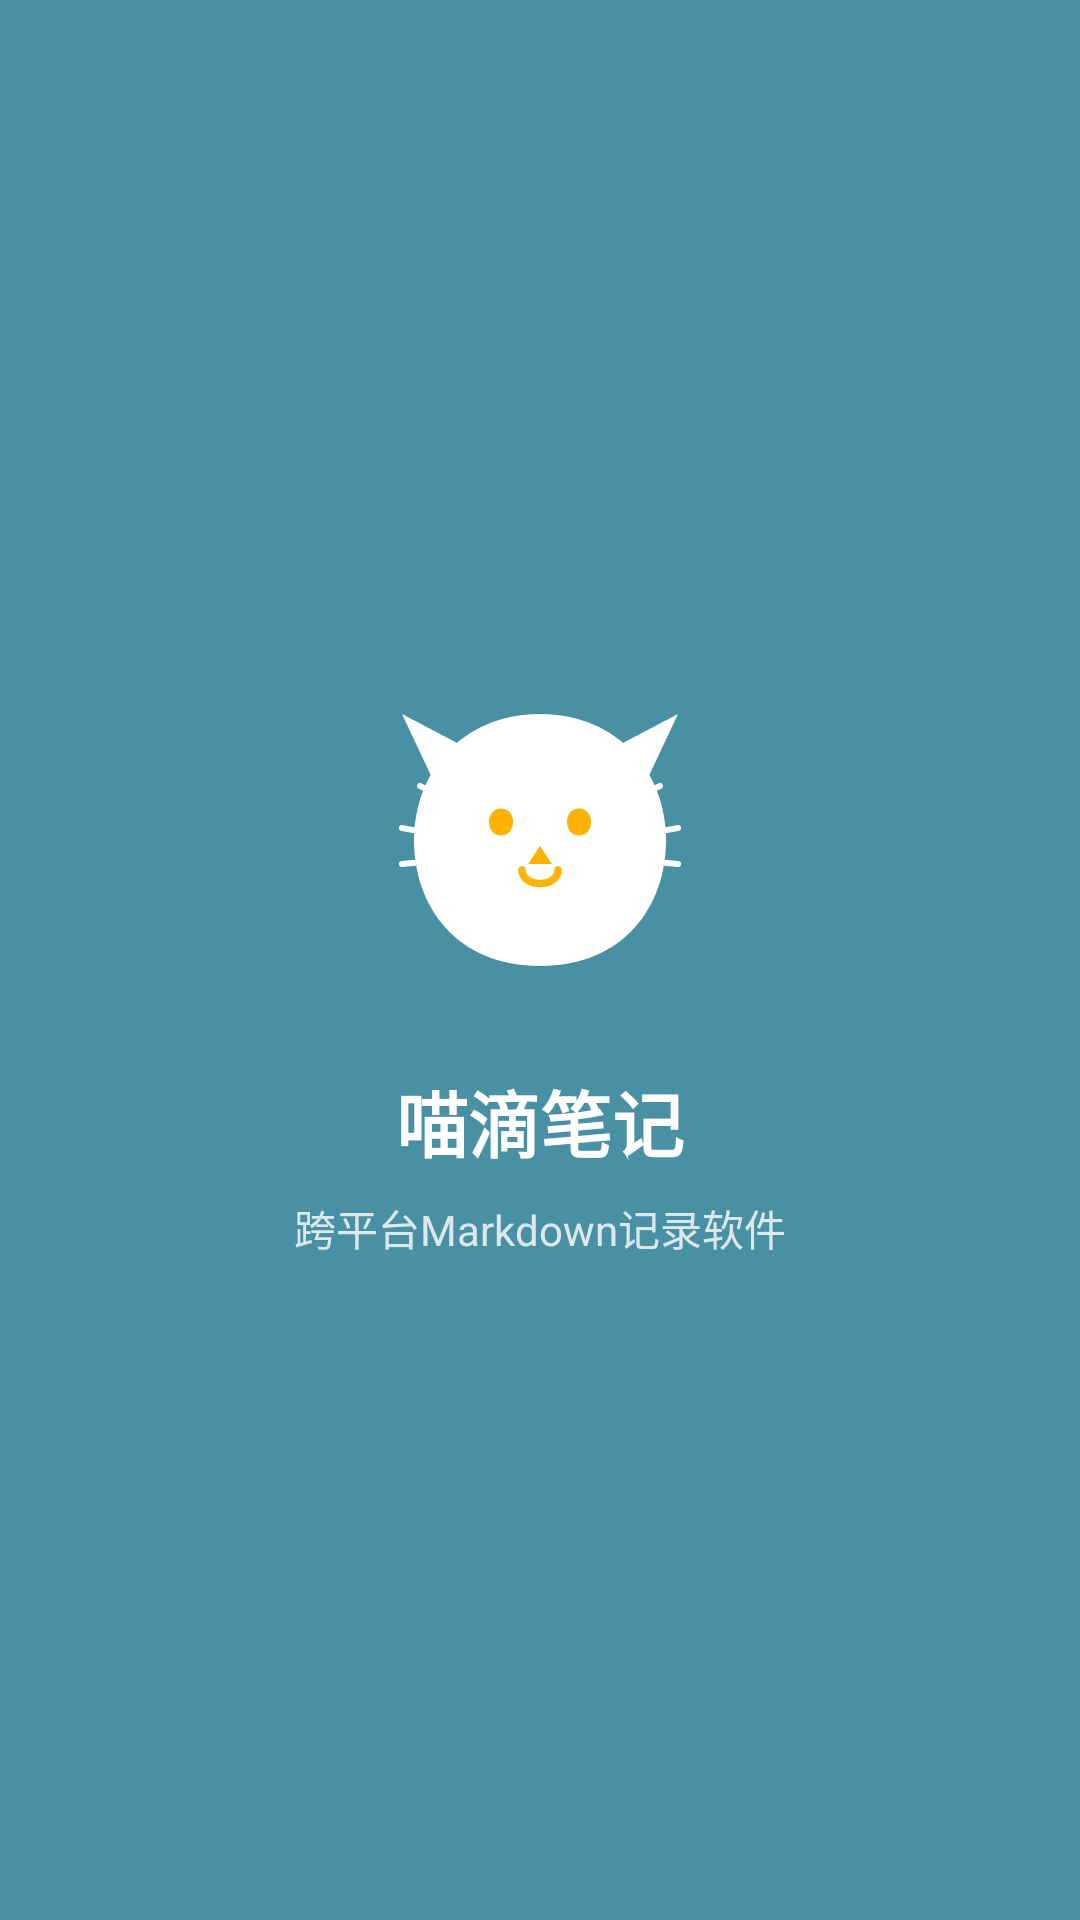

Icon click points for this 1080px×1920px phone screenshot, format (x,y):
cat: (540,840)
